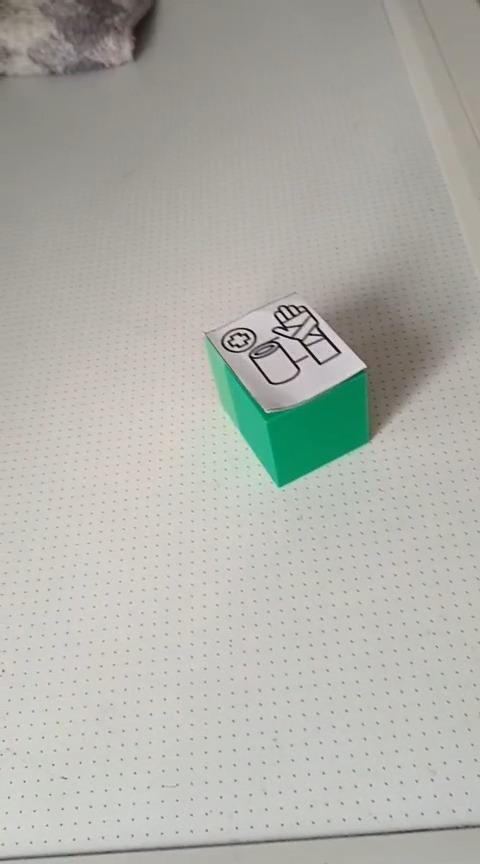Bandages: (205, 292, 371, 489)
